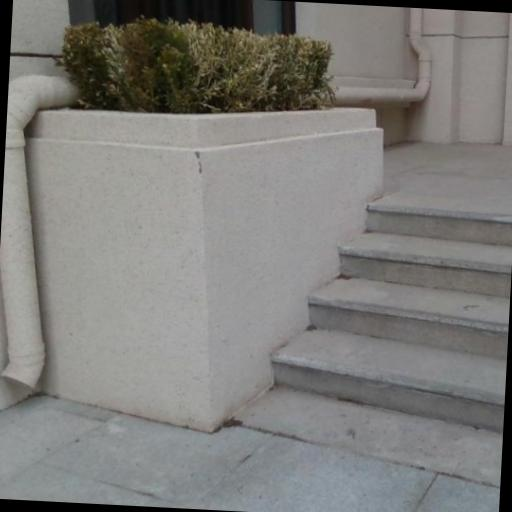stairs: (274, 198, 511, 431)
